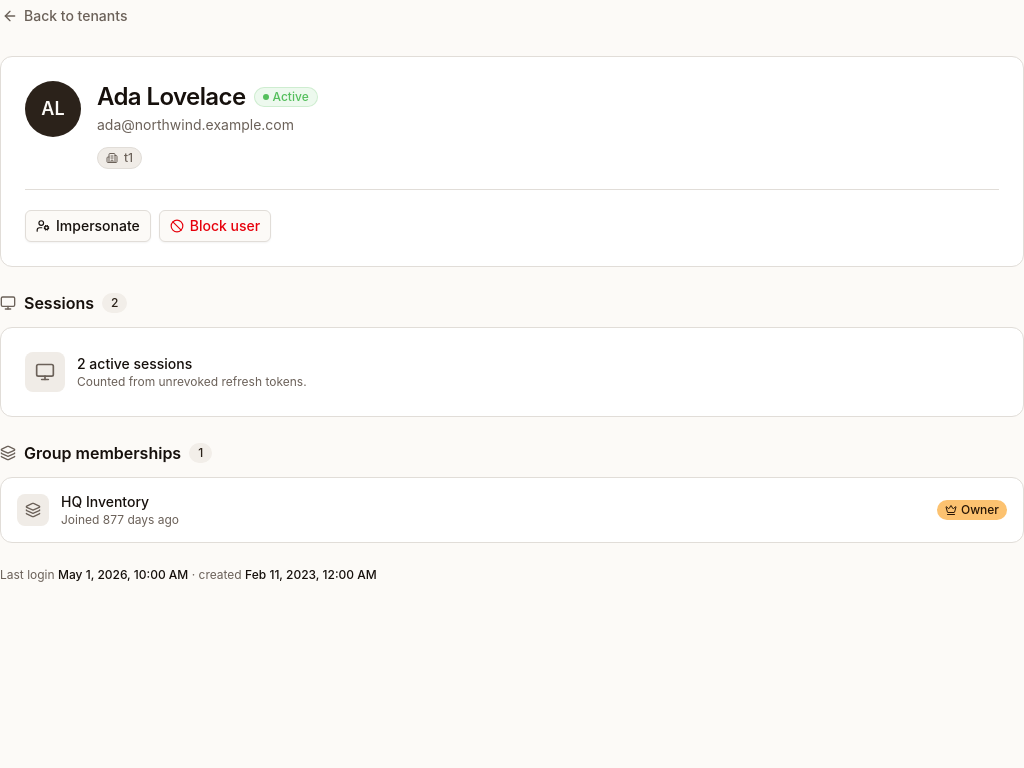
AdminUserDetailPage › surfaces a typed 422 error inline and keeps the user active on block failure
Click the button with test id "admin-user-block".
click(215, 226)  # box [159, 210, 271, 242]
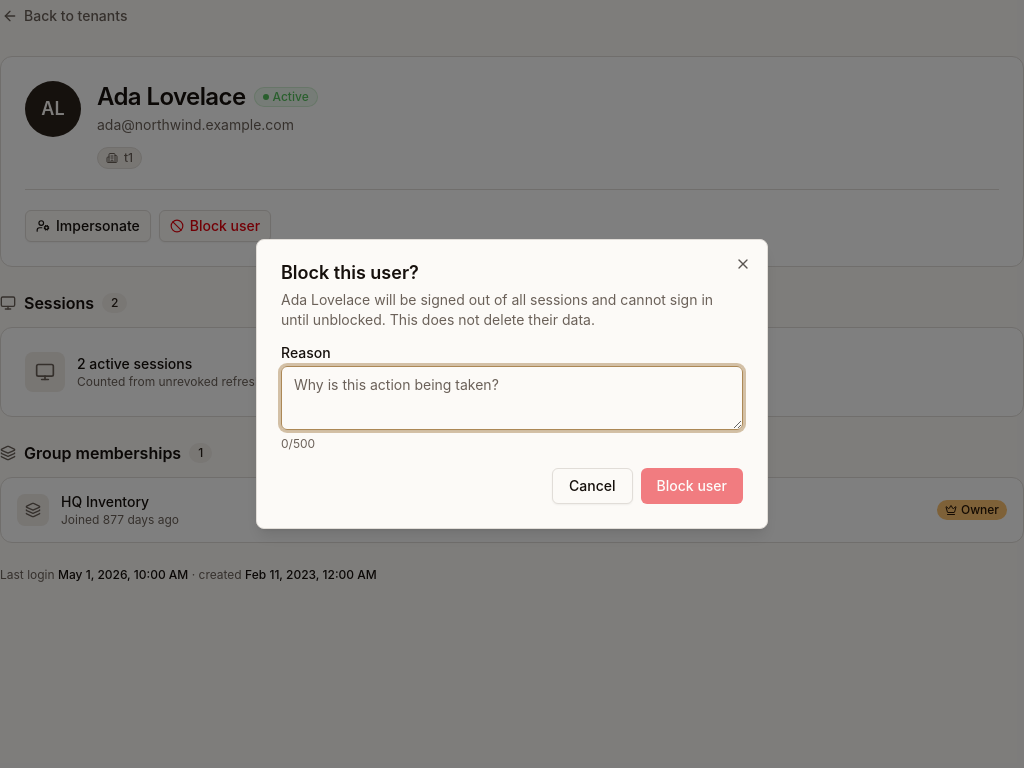
Type "Block an admin" into the text box with test id "admin-user-action-reason".
click(512, 398); type("Block an admin")  # box [281, 366, 743, 430]
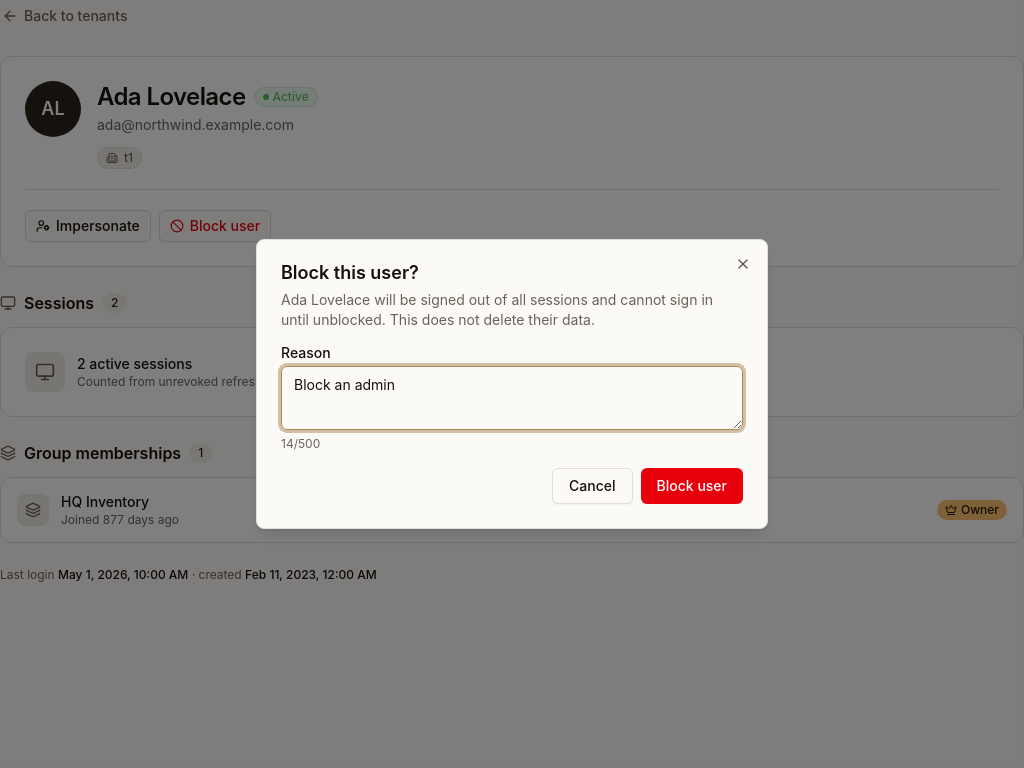
Click the button with test id "admin-user-action-confirm".
click(692, 486)  # box [641, 468, 743, 504]
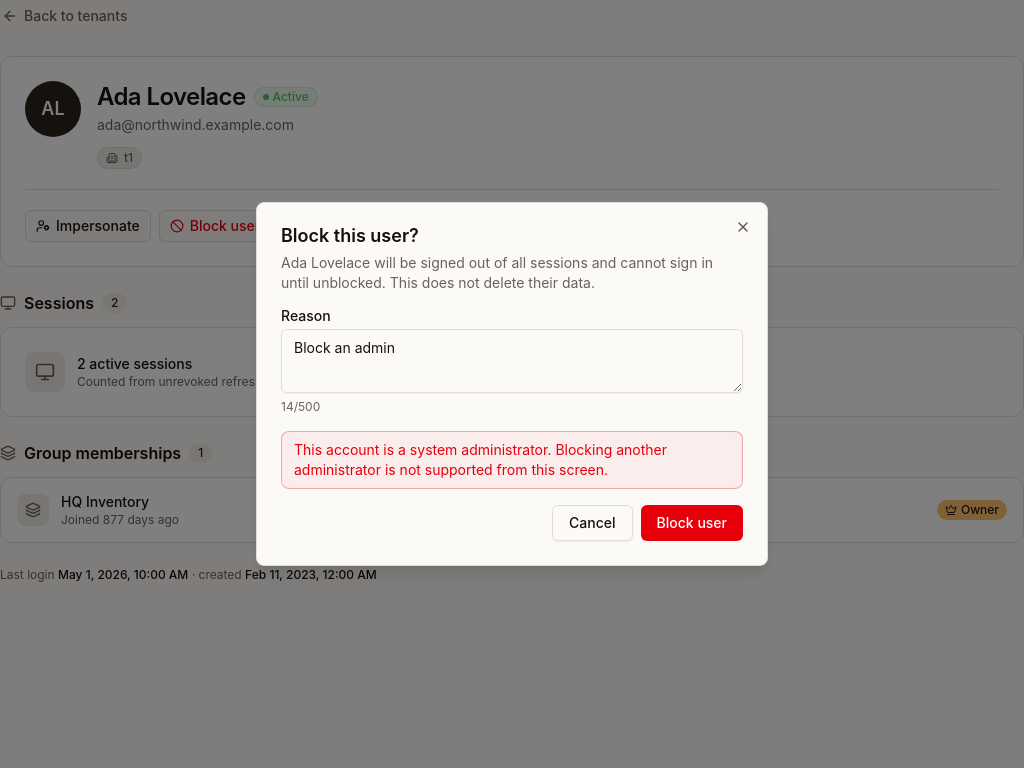
Check: the text "Active" is shown, box [254, 87, 318, 107]
Check: the dialog with test id "admin-user-action-dialog" is shown, box [256, 202, 768, 566]
Check: the message with test id "admin-user-action-error" shows "system administrator", box [294, 441, 667, 478]
